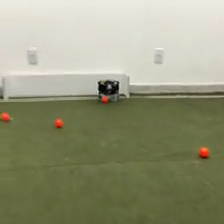ball: (199, 145, 209, 158), (54, 117, 64, 128), (1, 111, 10, 122), (102, 95, 109, 102)
goal: (1, 72, 132, 99)
robot: (96, 78, 121, 102)
